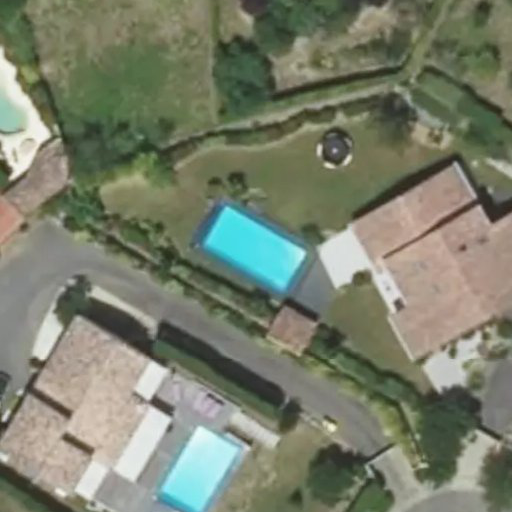pool: (204, 238, 308, 245)
